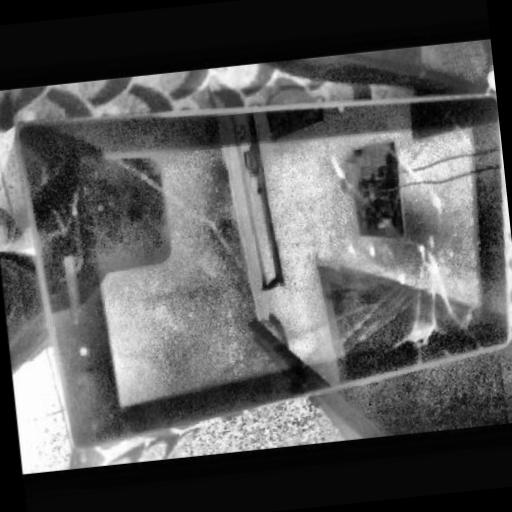phone: (3, 91, 512, 465)
